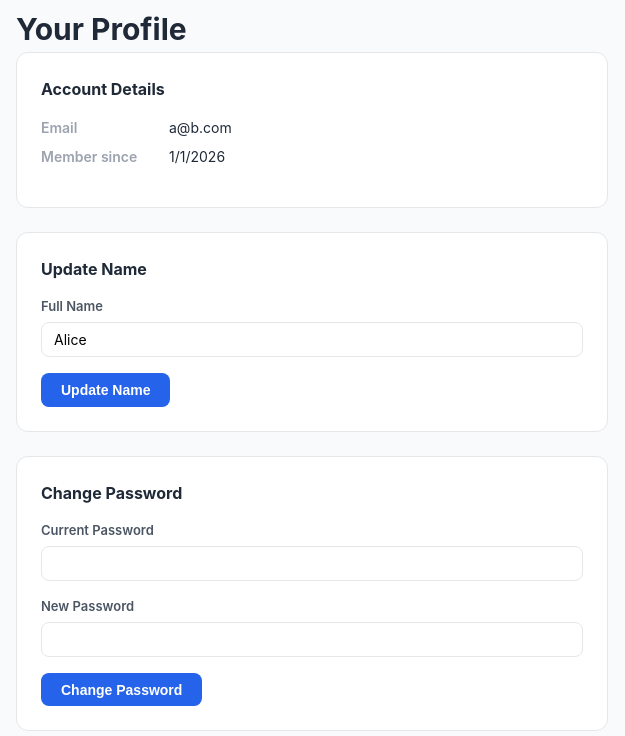
Profile name update › shows an error message on failure
The width and height of the screenshot is (625, 736).
Click the button "Update Name": x=106, y=390 [41,373,170,407]
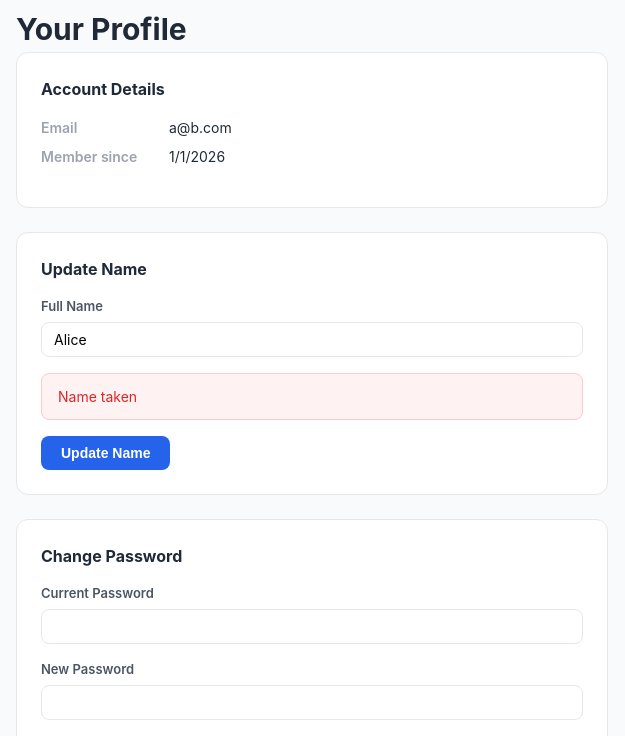
Check: the text "Name taken" is shown, box [41,373,583,420]
